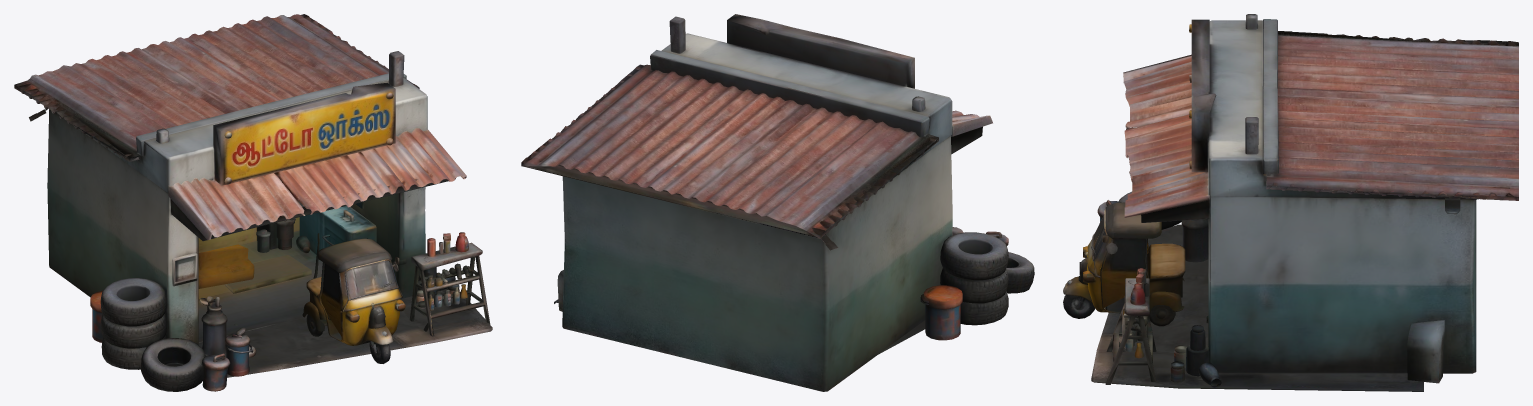
File: garage_workshop.glb
3 views of the same model, side by side, from view 1: azimuth 30°, elevation 25°; view 2: azimuth 150°, elevation 25°; view 3: azimuth 270°, elevation 25° (orthographic). The views are drawn at different scales.
Parts seen in each view (by area): view 1: tripo_node_d3e64b0c-c710-4732-9398-bd766a1ba47f; view 2: tripo_node_d3e64b0c-c710-4732-9398-bd766a1ba47f; view 3: tripo_node_d3e64b0c-c710-4732-9398-bd766a1ba47f.
Boxes of the visible parts, bbox=[...] form: tripo_node_d3e64b0c-c710-4732-9398-bd766a1ba47f: bbox=[14, 14, 492, 391]; tripo_node_d3e64b0c-c710-4732-9398-bd766a1ba47f: bbox=[521, 14, 1034, 391]; tripo_node_d3e64b0c-c710-4732-9398-bd766a1ba47f: bbox=[1063, 14, 1518, 391].
Bounding box in the file's own units: 0.9575 × 0.6089 × 0.9995.
1 material, 1 textured.
